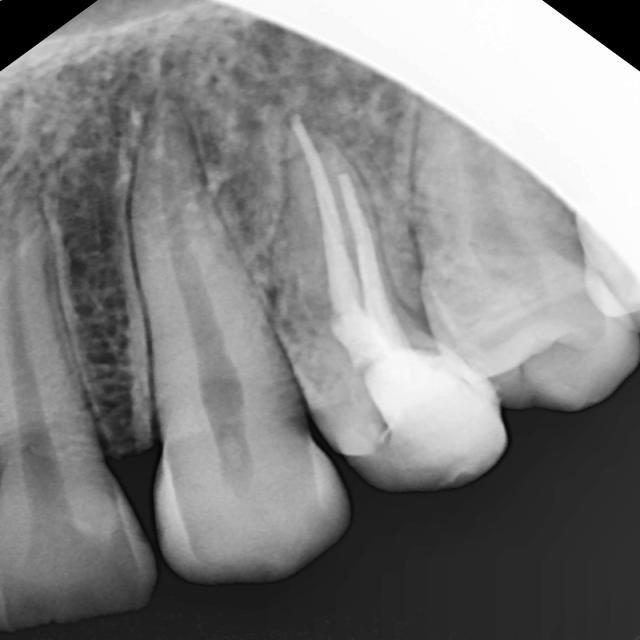RCT: (284, 109, 444, 416)
